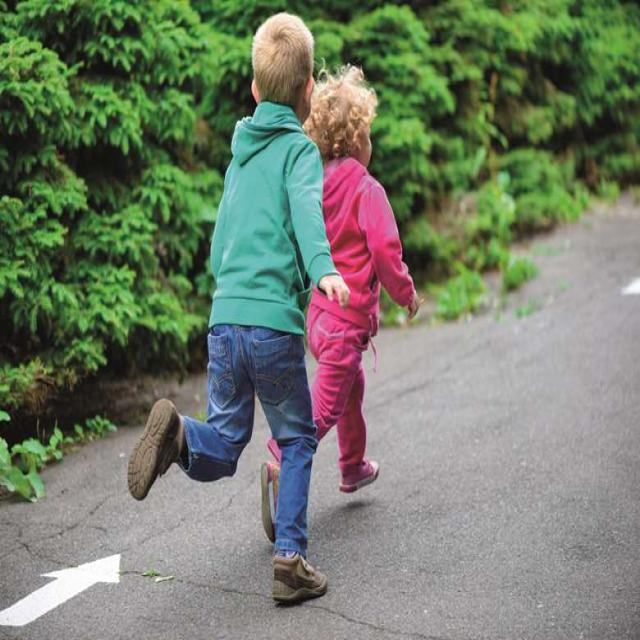Person: (127, 11, 351, 611), (260, 63, 422, 546)
